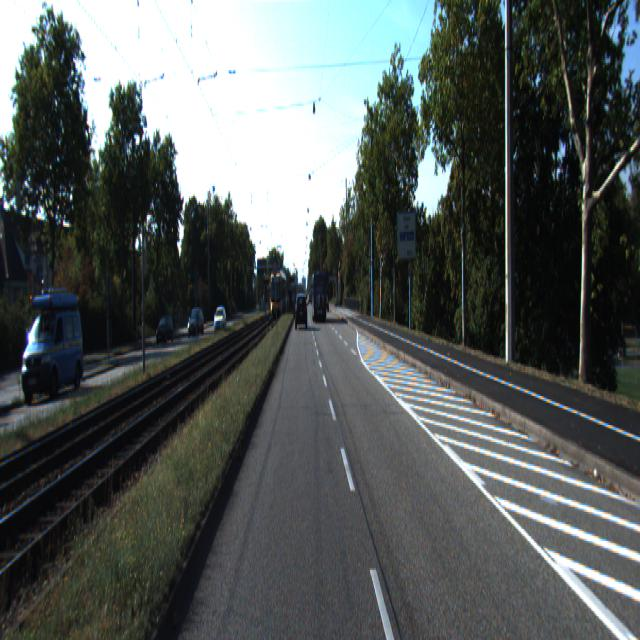Car: (20, 303, 86, 405), (312, 272, 328, 322), (295, 295, 307, 331), (214, 309, 227, 336)
